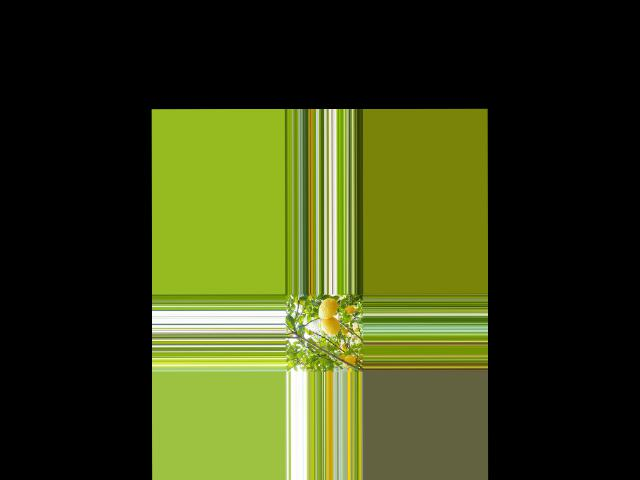lemon: (319, 315, 342, 336)
